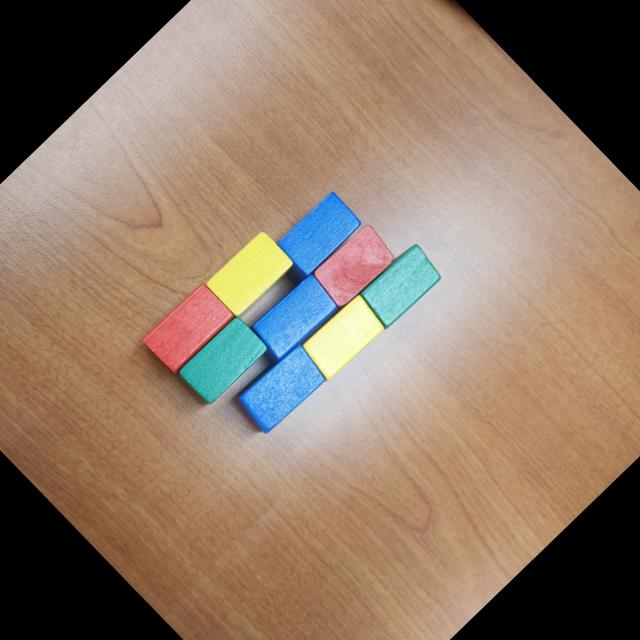blue: (230, 336, 333, 438), (242, 270, 344, 372), (276, 188, 366, 278)
green: (177, 313, 272, 407), (358, 239, 448, 328)
red: (140, 279, 238, 376), (308, 220, 399, 310)
yellow: (204, 228, 296, 318), (298, 293, 388, 382)
